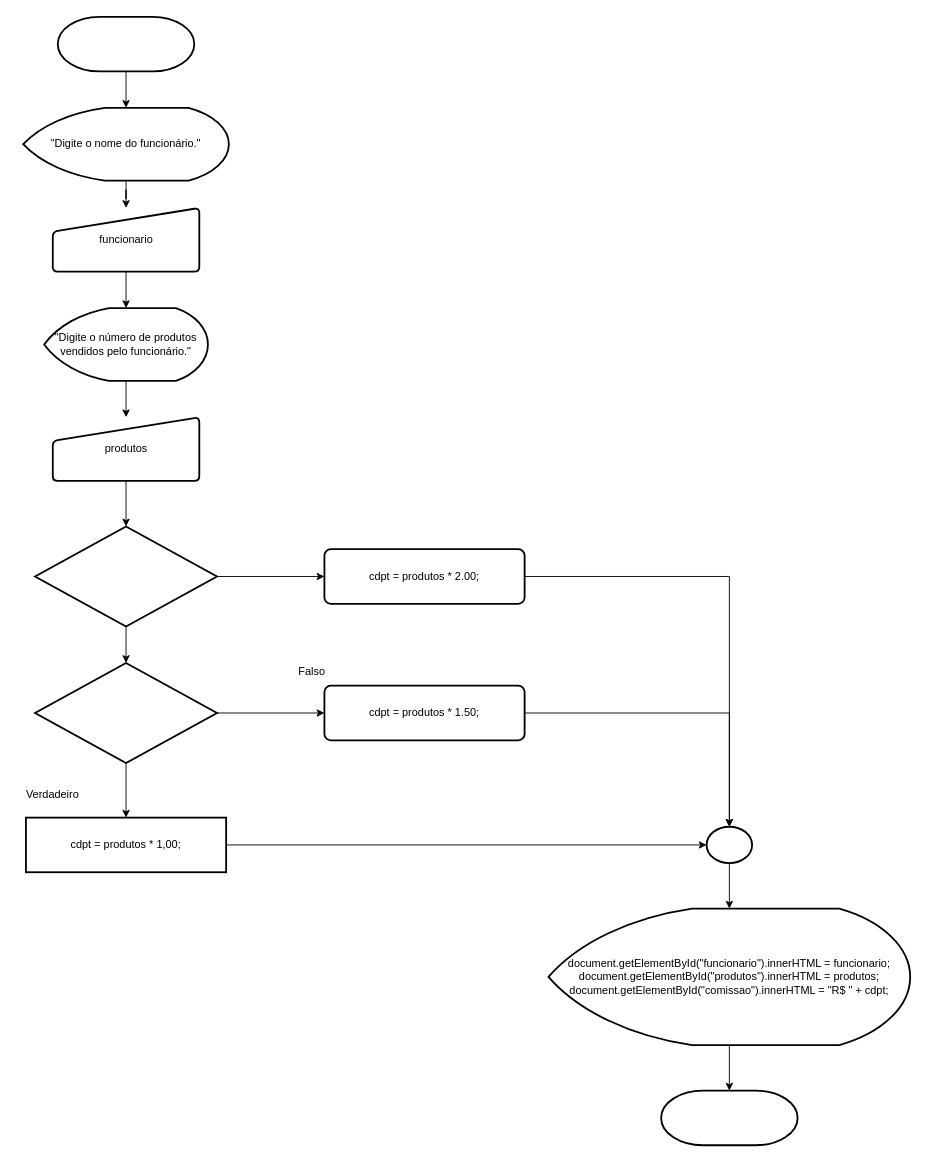
This 926x1161 diagram has some shape labels left out. The box of each missing label's shape, as (x1, y1, x2, y2) in pixels:
Fim: (660, 1089, 798, 1146)
Inicio: (56, 15, 195, 72)
produtos <= 250: (34, 662, 217, 763)
produtos > 500: (34, 525, 217, 627)
